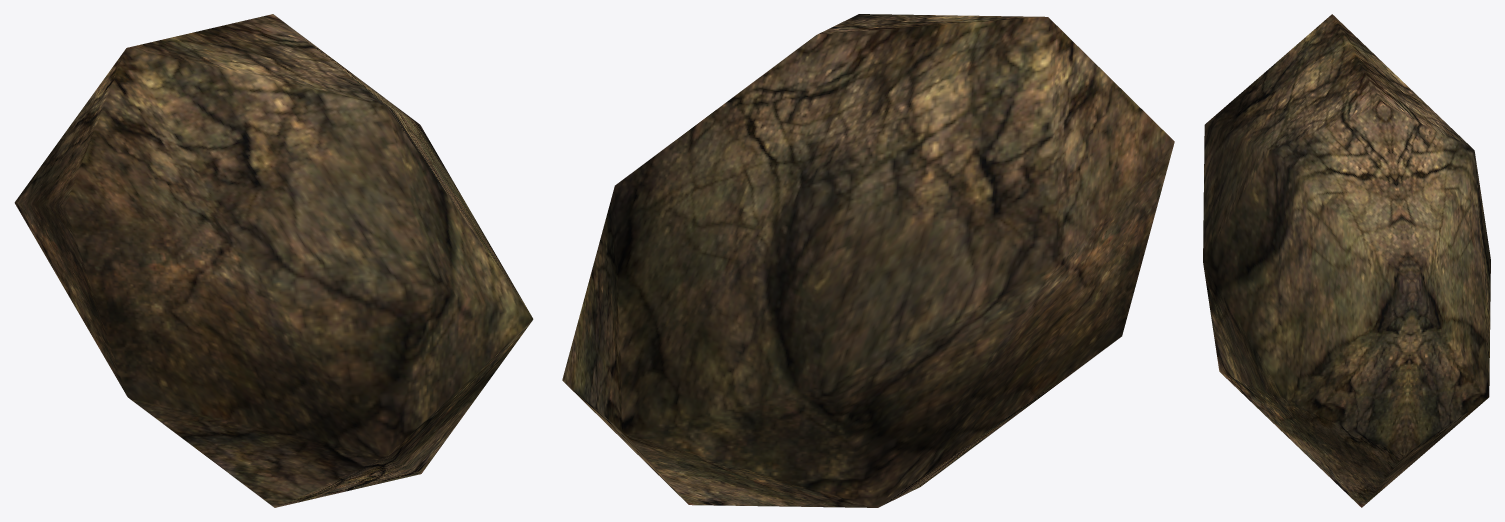
The model's file is stone_19.obj.
3 renders of one model, left to right at view 1: azimuth 30°, elevation 25°; view 2: azimuth 150°, elevation 25°; view 3: azimuth 270°, elevation 25°, orthographic. The views are drawn at different scales.
Parts seen in each view (by area): view 1: (null); view 2: (null); view 3: (null).
Boxes of the visible parts, x1,y1,x2,y2 form: (null): (14,14,533,507); (null): (562,14,1174,507); (null): (1203,14,1490,507).
Size of the model in its own units: 1.34 by 1.34 by 0.9181.
